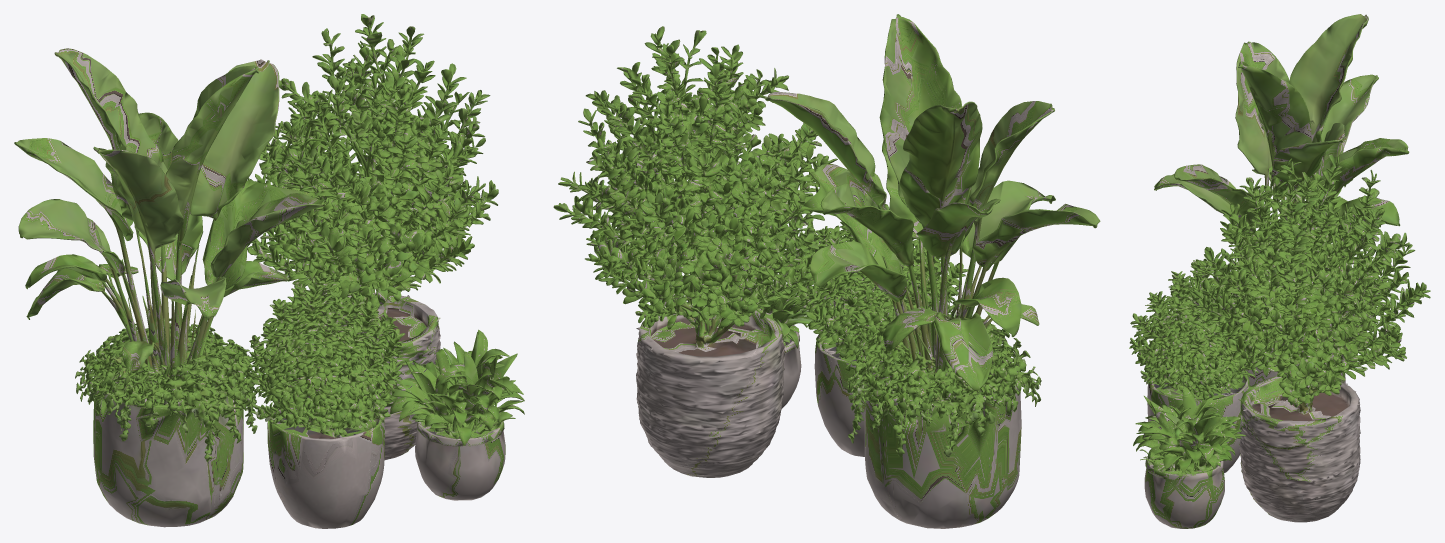
File: pots.glb
3 renders of one model, left to right at view 1: azimuth 30°, elevation 25°; view 2: azimuth 150°, elevation 25°; view 3: azimuth 270°, elevation 25°, orthographic. The views are drawn at different scales.
Size of the model in its own units: 1.9 by 1.61 by 1.15.
1 material, 1 textured.
